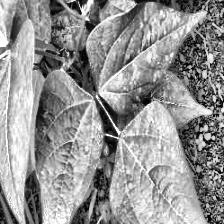Bean Rust: (111, 102, 224, 224), (87, 3, 207, 110)
